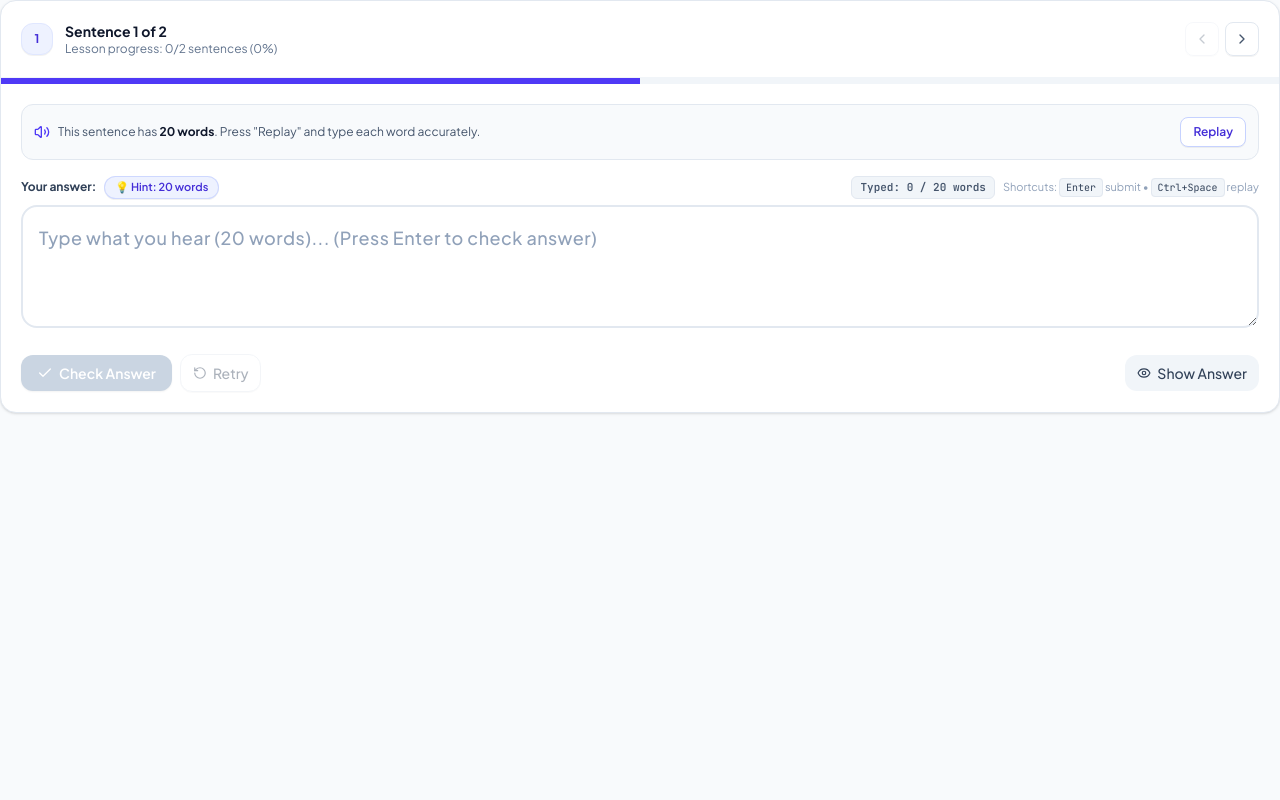
Test case: DictationStudio Component › renders typing studio and handles answer submission
The width and height of the screenshot is (1280, 800).
Step 1. Replace the text in the text box with placeholder "Type what you hear" with "I am honored to be with you today at your commencement from one of the finest universities in the world." → (640, 266), box [21,204,1259,328]
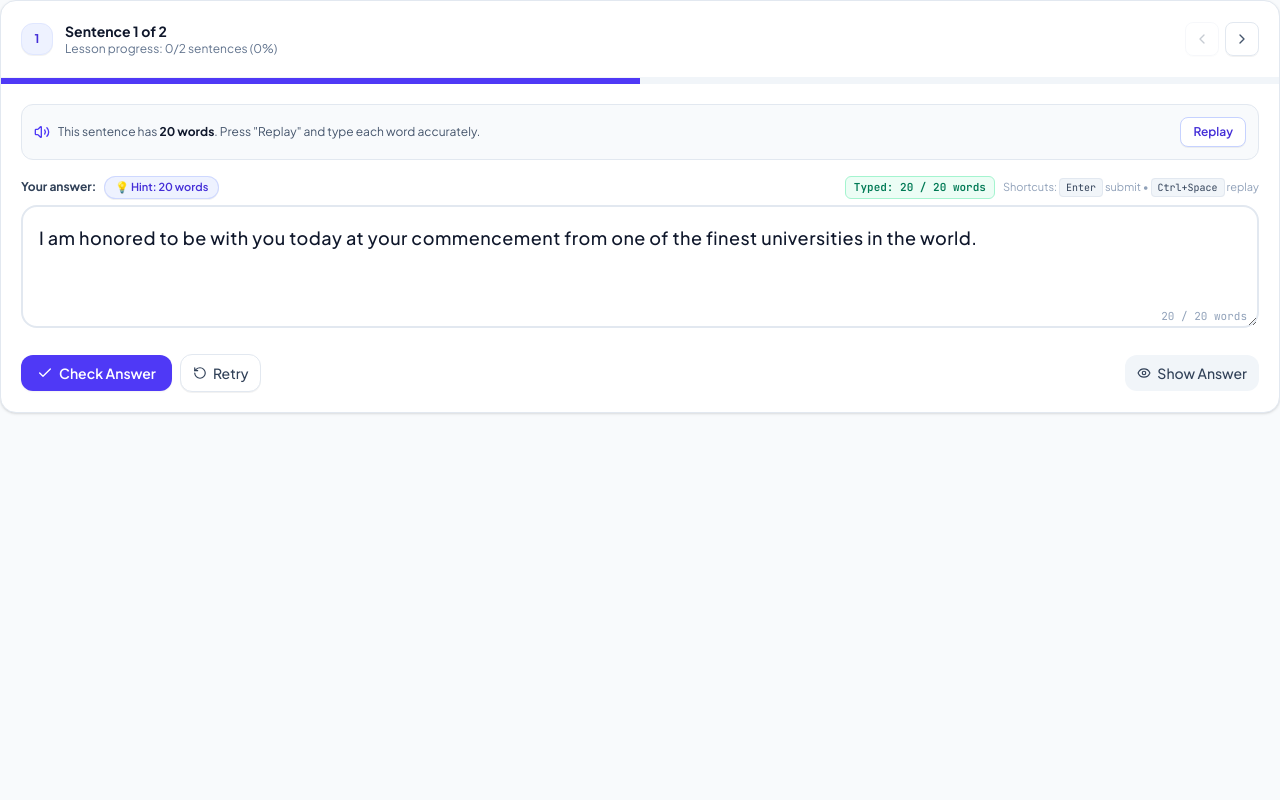
Expected: the button "Check Answer" is enabled
Step 2. Click the button "Check Answer" → (96, 373), box [21,355,172,391]
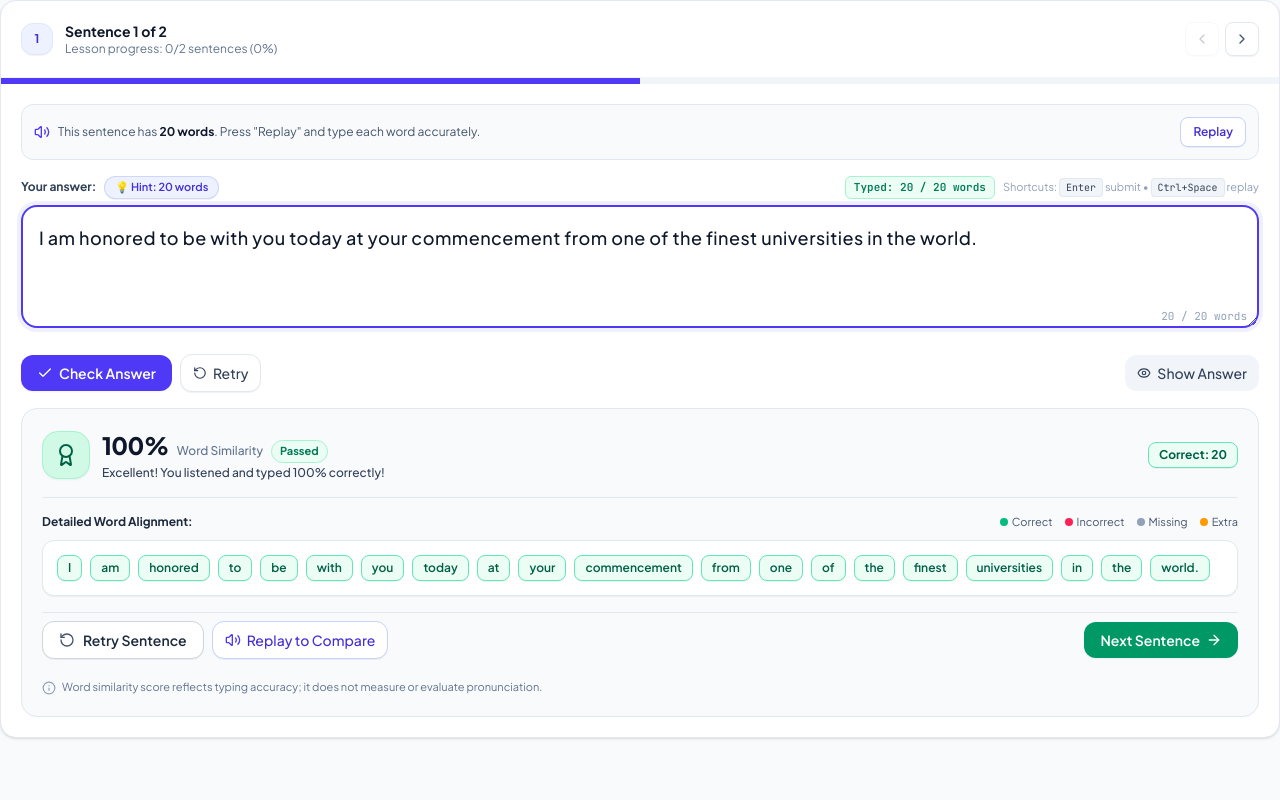
Expected: the text "100%" is shown, [102,429,169,461]
Expected: the text "Correct: 20" is shown, [1148,442,1238,468]
